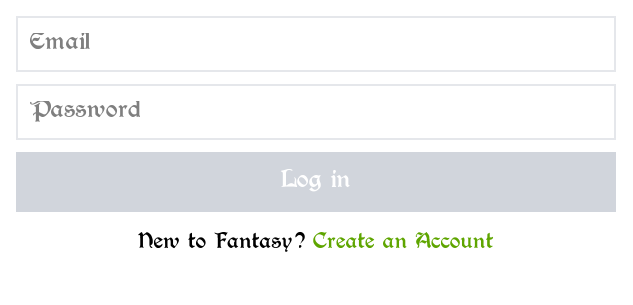
Log In › can see email validation error
Type "some_email_6@gmail" into the field with placeholder "Email".
click(316, 44); type("some_email_6@gmail")  # box [16, 16, 616, 72]
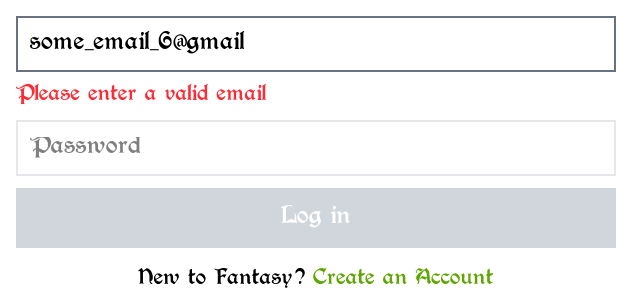
Expected: the message "Please enter a valid email" is shown, [16, 88, 267, 104]
Clear the field with placeholder "Email" at point(316, 44), box [16, 16, 616, 72]
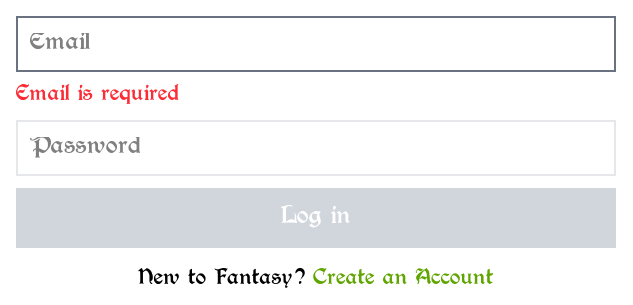
Expected: the message "Email is required" is shown, [16, 88, 179, 104]
